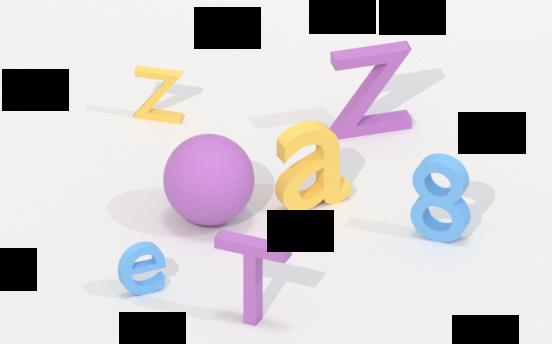8: (409, 149, 471, 249)
a: (273, 121, 351, 214)
cau: (163, 131, 256, 225)
e: (114, 240, 173, 295)
t-hoa: (211, 227, 293, 328)
z: (327, 39, 416, 134), (132, 64, 192, 126)
